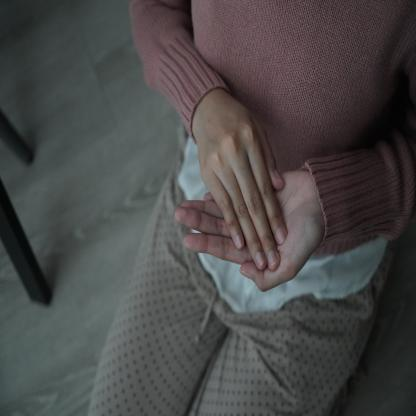Love: (169, 61, 328, 321)
